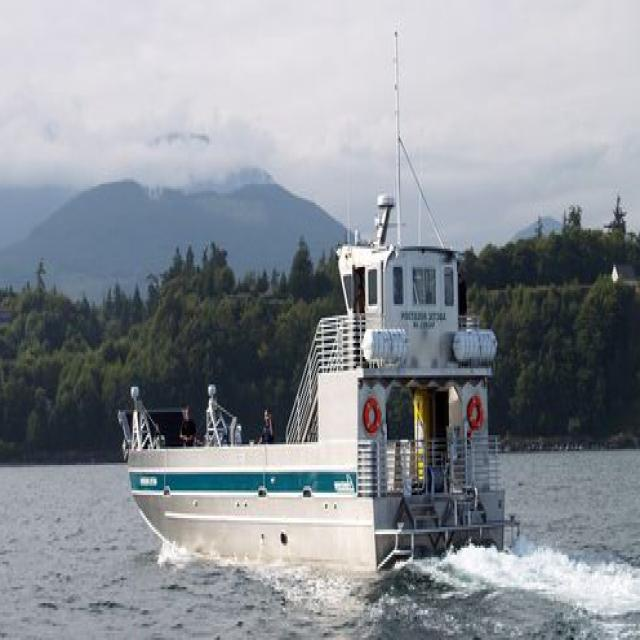houseboat: (127, 225, 506, 575)
